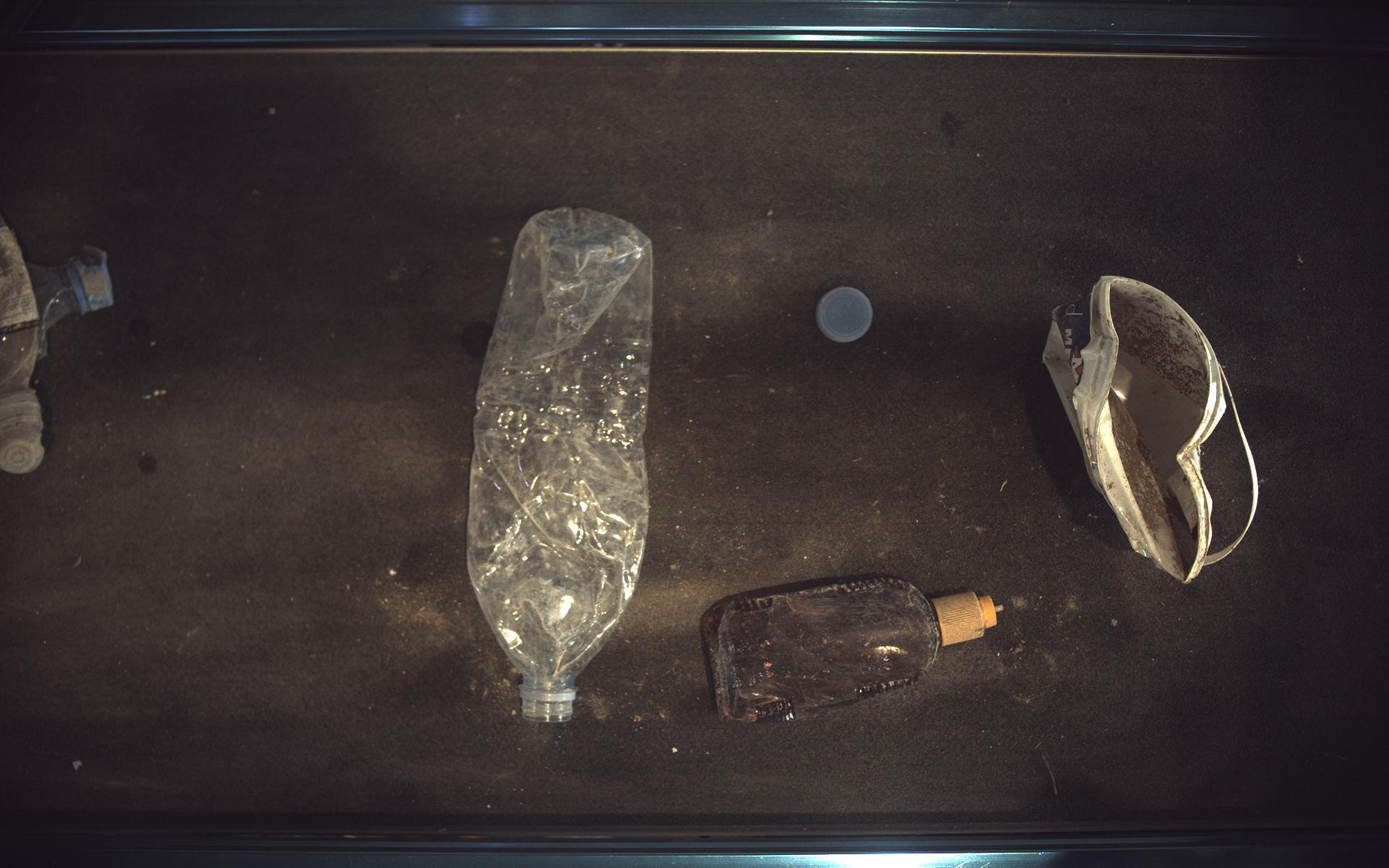general_w: (467, 207, 653, 723), (1045, 276, 1262, 584), (702, 575, 1001, 723), (817, 286, 875, 342)
